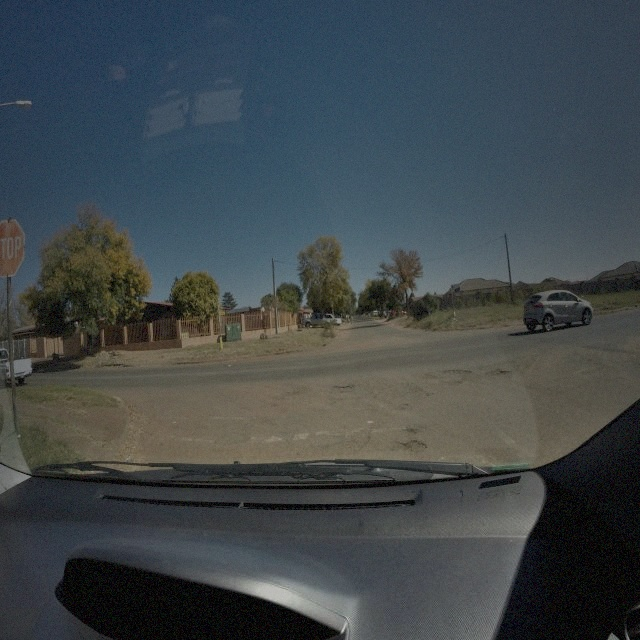pothole: (397, 441, 427, 455), (486, 368, 511, 379), (333, 382, 355, 394), (443, 368, 473, 376)
